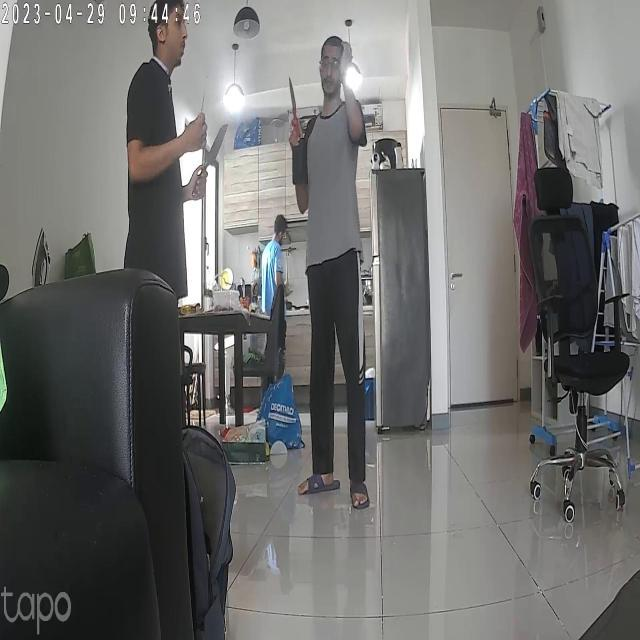Knife: (194, 118, 233, 174), (281, 75, 310, 133)
